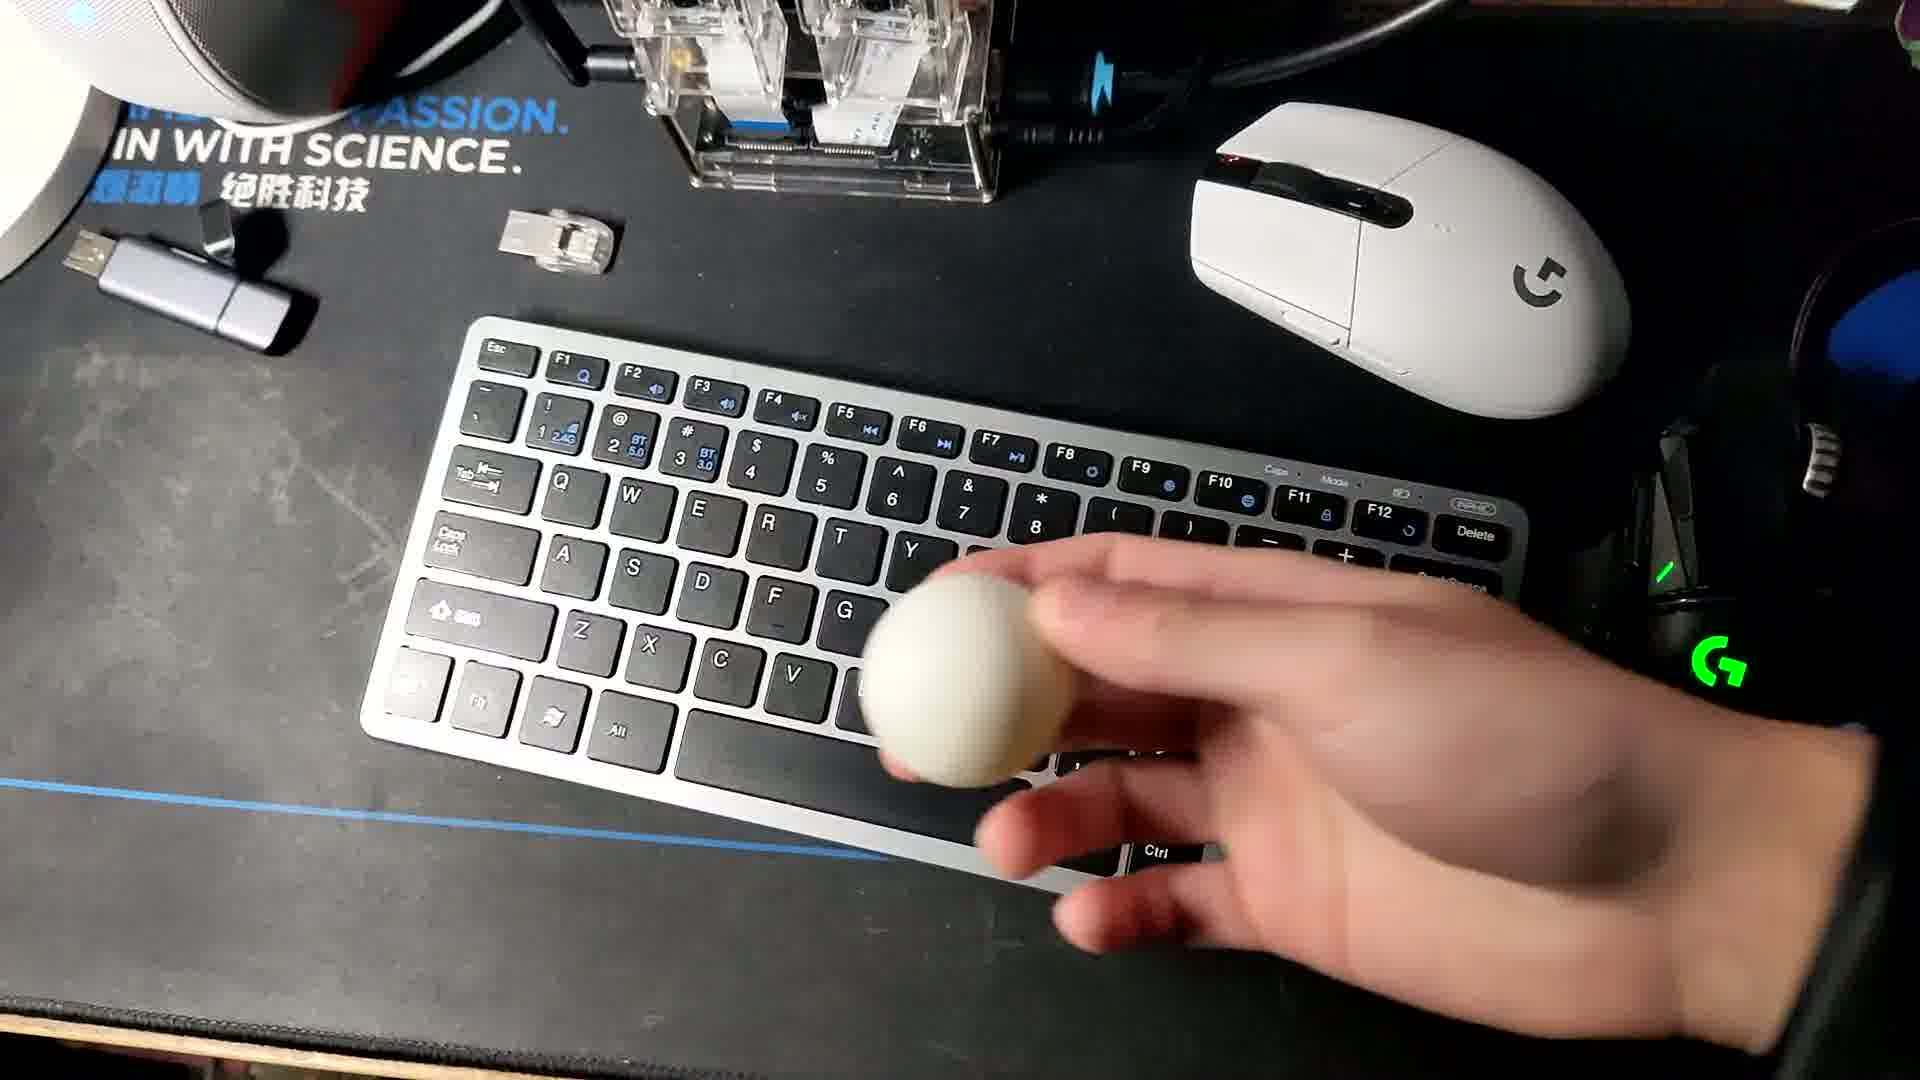Ball: (861, 560, 1076, 785)
